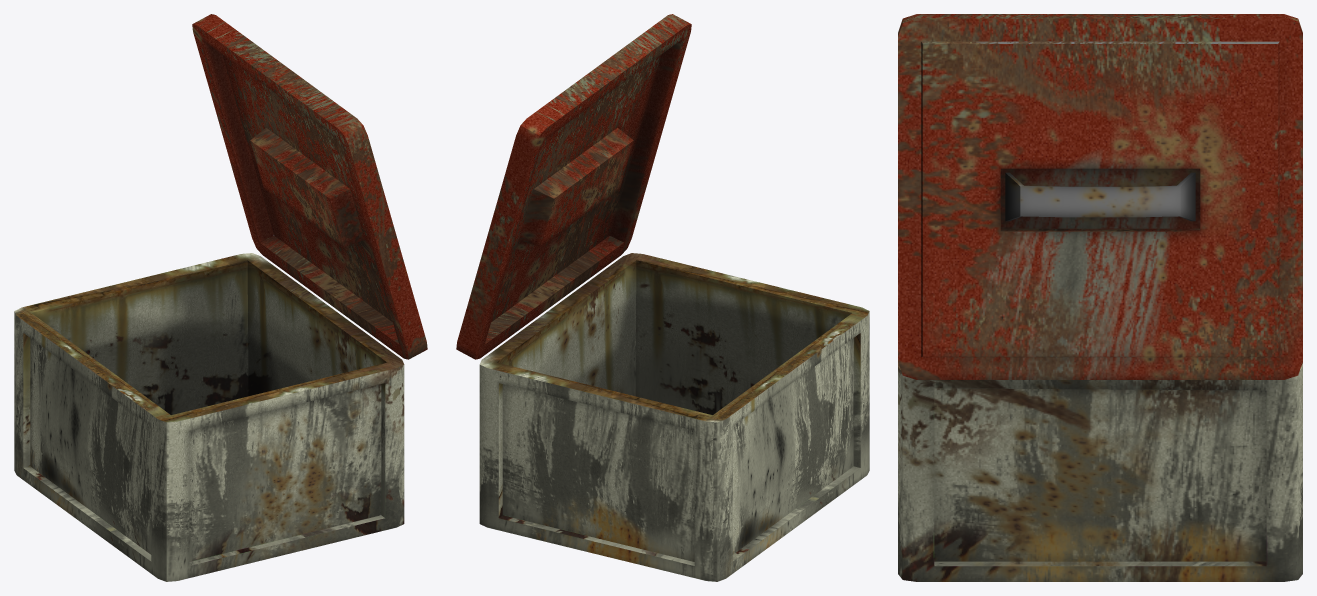
File: old_box.glb
3 renders of one model, left to right at view 1: azimuth 30°, elevation 25°; view 2: azimuth 150°, elevation 25°; view 3: azimuth 270°, elevation 25°, orthographic. The views are drawn at different scales.
Parts seen in each view (by area): view 1: Object_2; view 2: Object_2; view 3: Object_2.
Part boxes in pixels (left/top/right/bottom): Object_2: left=14, top=14, right=427, bottom=581; Object_2: left=456, top=14, right=869, bottom=581; Object_2: left=898, top=14, right=1302, bottom=581.
Size of the model in its own units: 110 by 163 by 112.
1 material, 1 textured.
